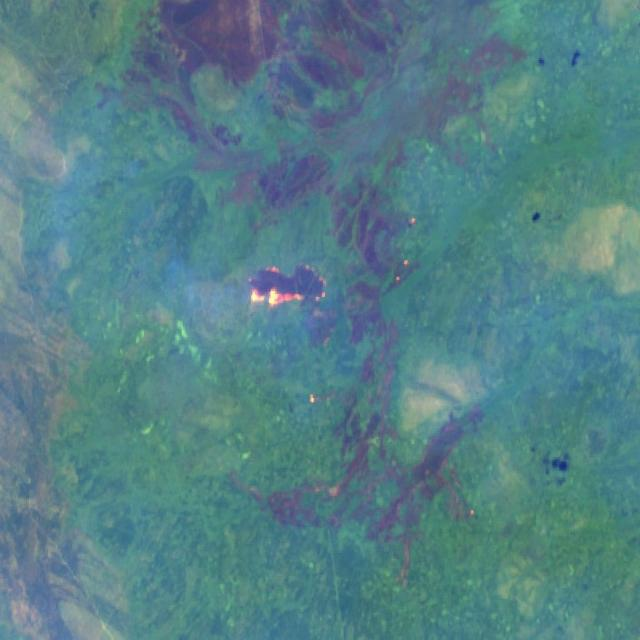fire: (240, 254, 332, 318)
